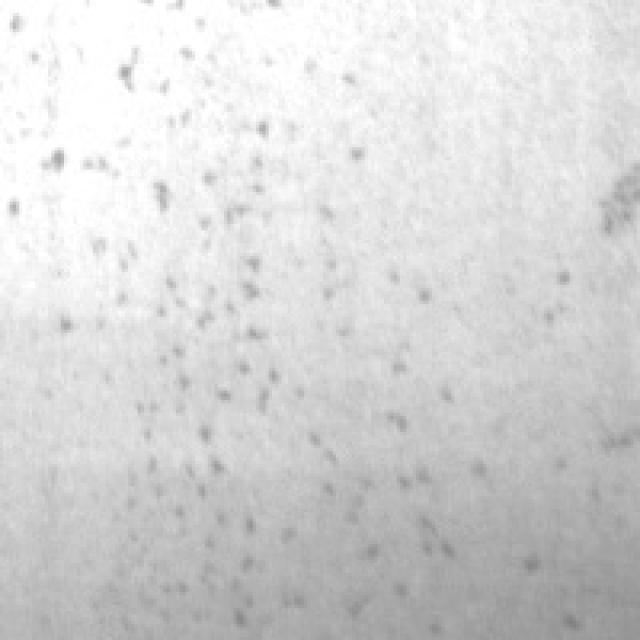pitted_surface: (70, 0, 458, 634), (506, 154, 630, 630)
